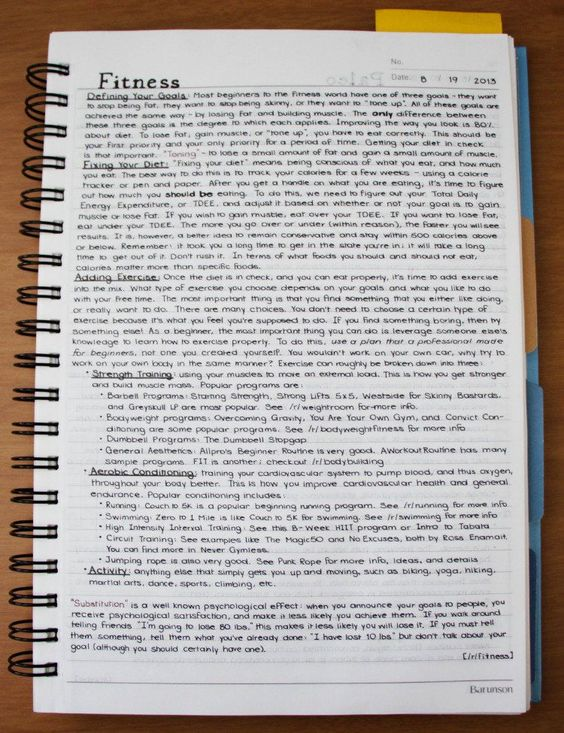page: (71, 34, 515, 709)
